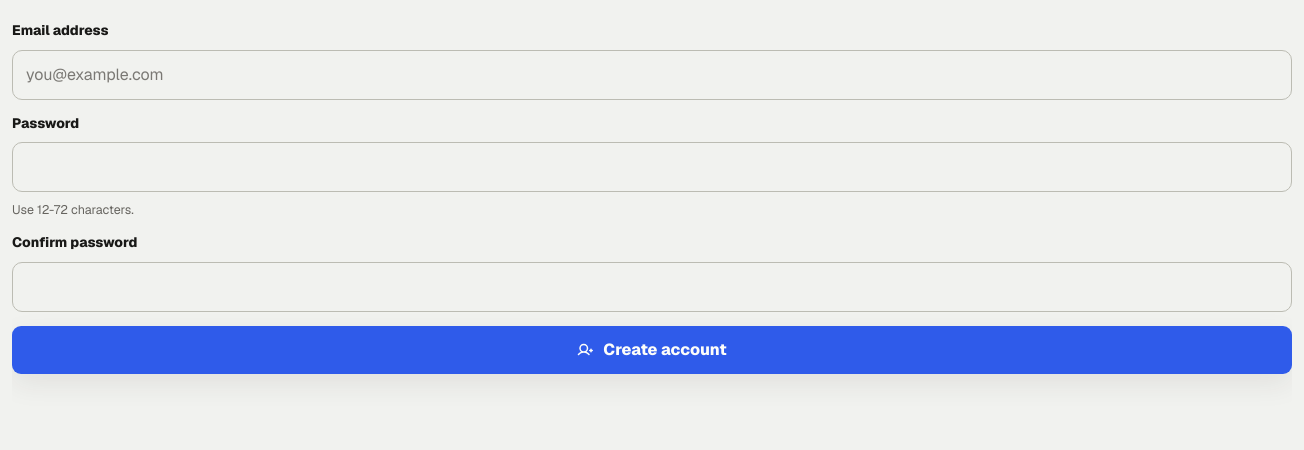
it: focuses the signup recipient after Change email
Type "student@school.example" into the field labelled "Email address".
click(652, 75); type("student@school.example")  # box [12, 50, 1292, 100]
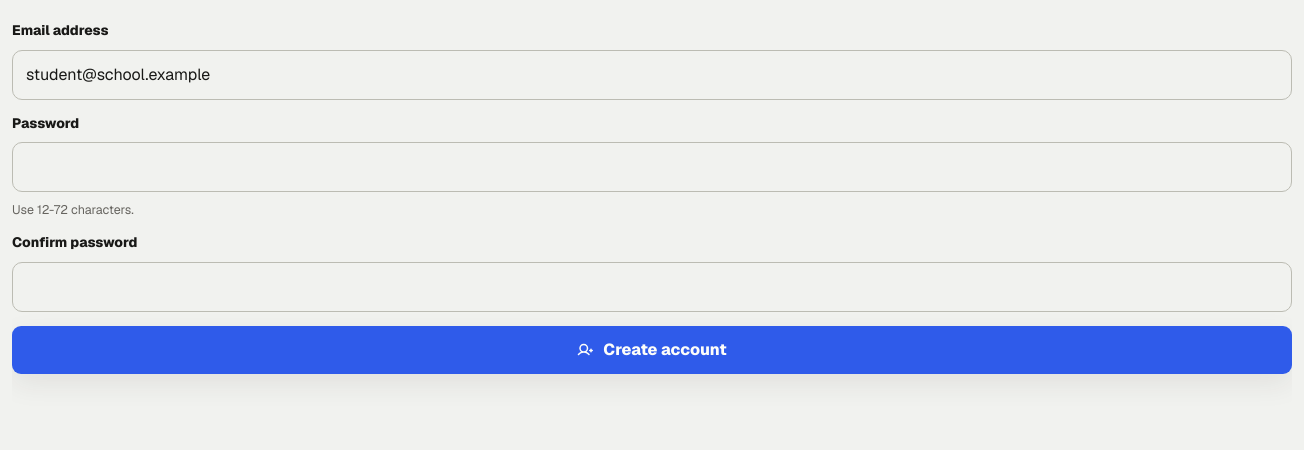
Submit the form "Create account"
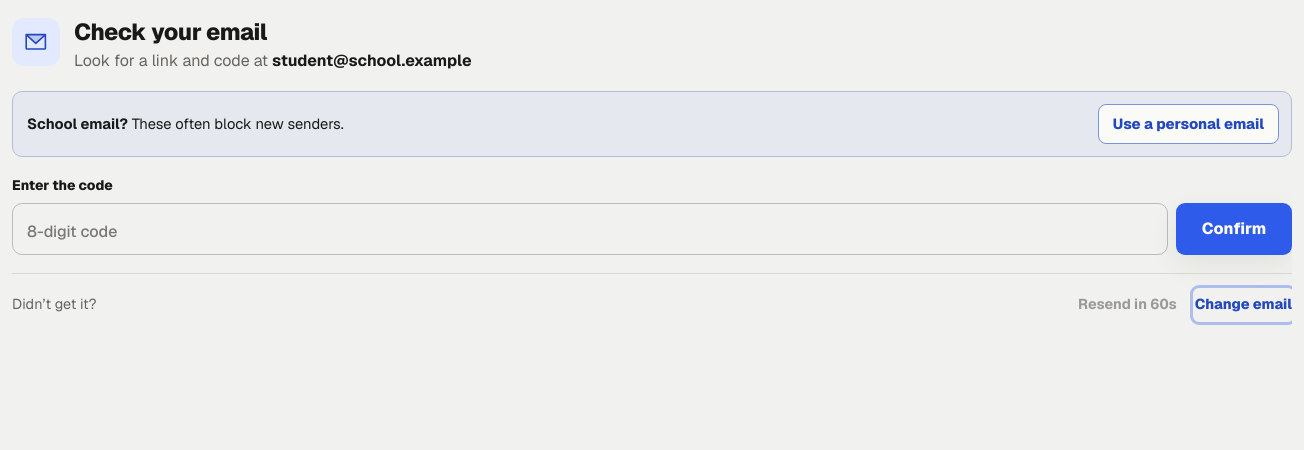
Click the button "Change email".
click(1243, 305)  # box [1195, 290, 1292, 320]
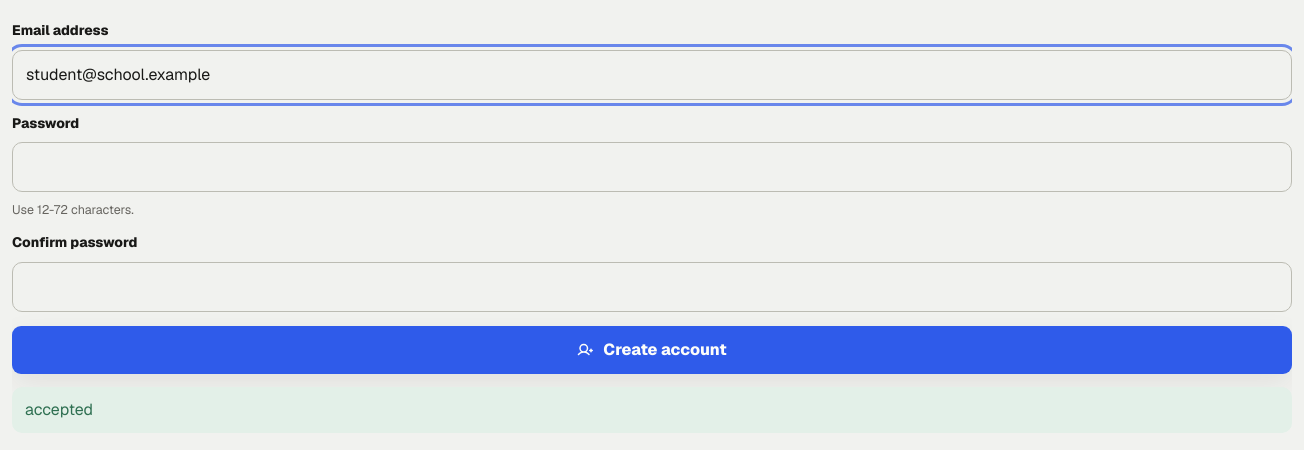
Check: the field labelled "Email address" holds "student@school.example", box [12, 50, 1292, 100]
